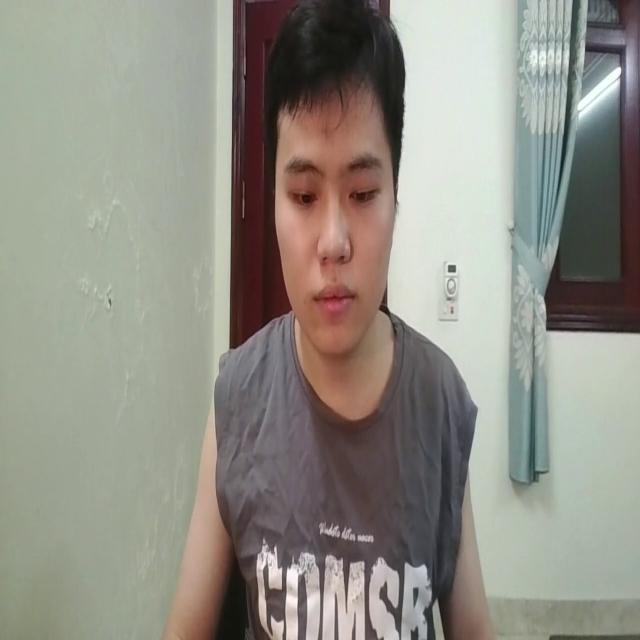student: (172, 0, 488, 640)
